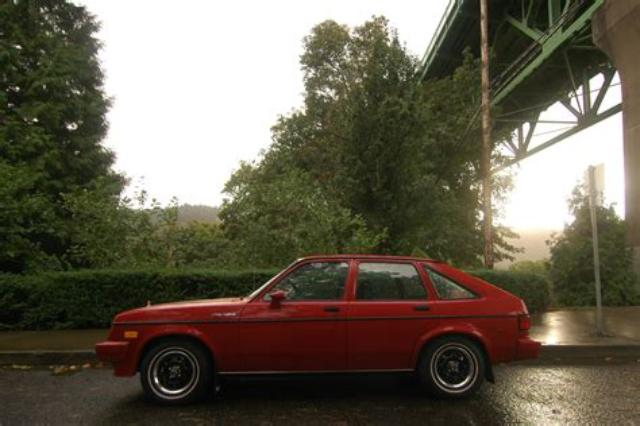chevette-1983: (96, 254, 540, 405)
